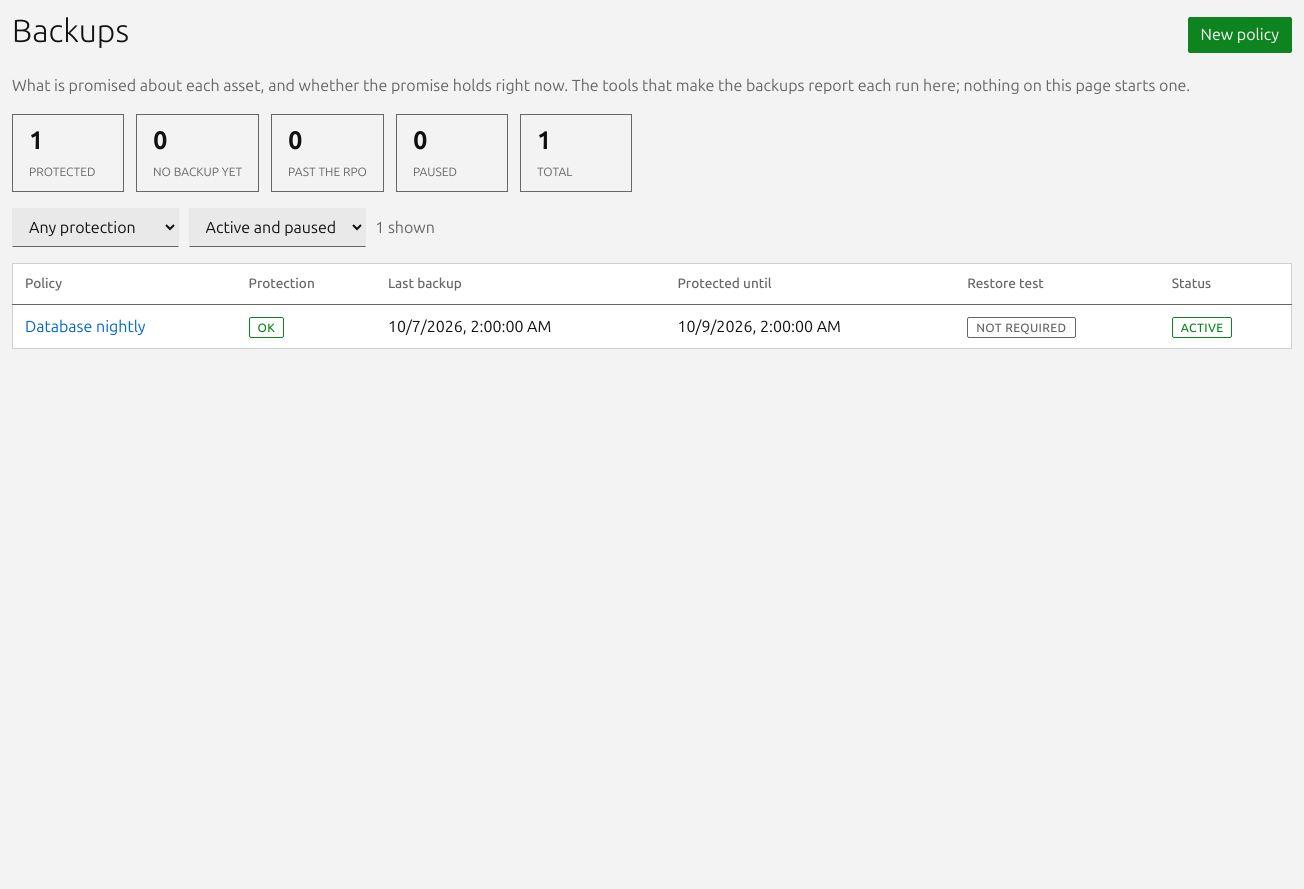
Test: a new policy › shows a failure that is not a problem document as plain text
The image size is (1304, 889).
Check: the button "Database nightly" is shown, box 25,315 -> 146,339
Click the button "New policy": (1240, 35) 1188,17 -> 1292,53
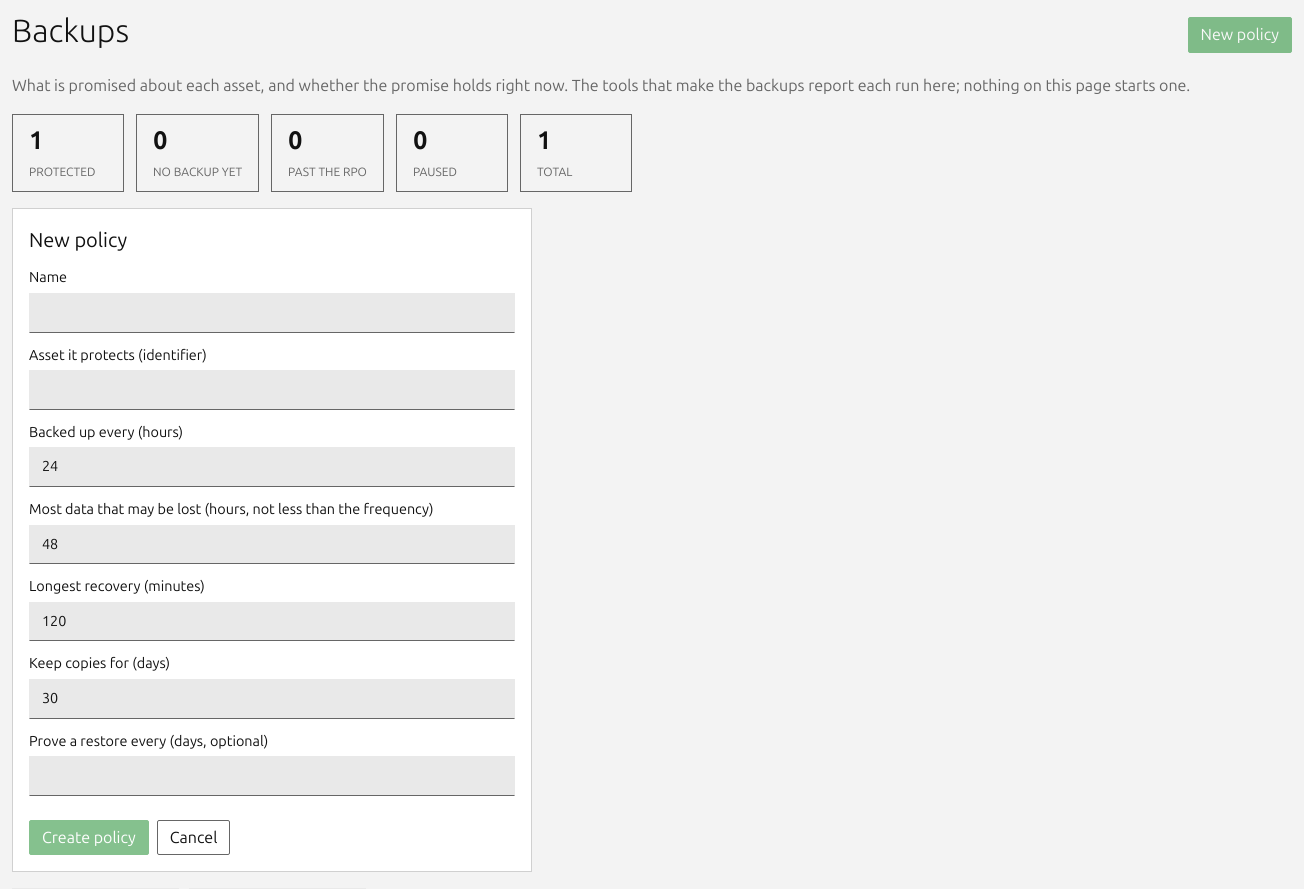
In the field labelled "Name": (272, 313) 29,293 -> 515,333, type "X"
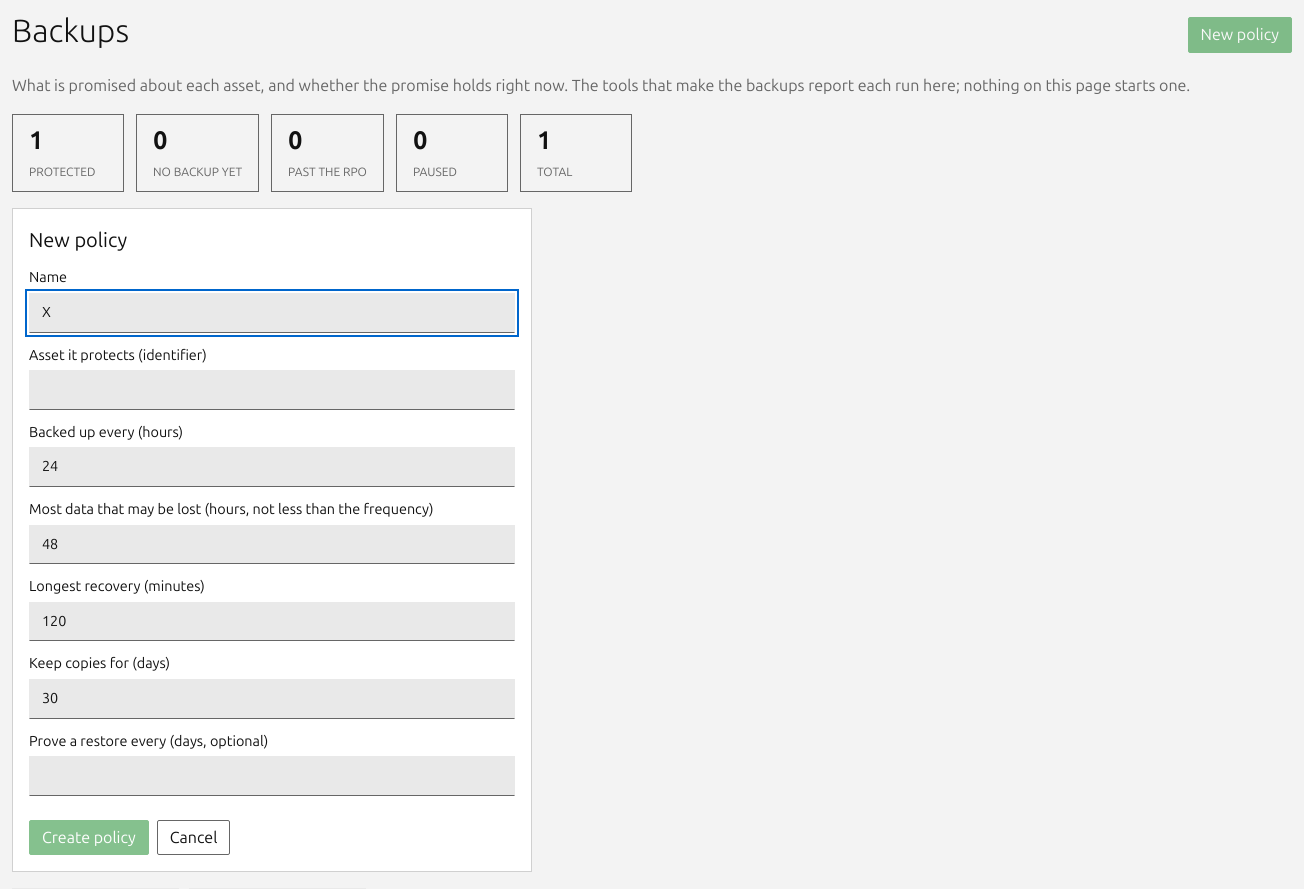
In the field labelled "Asset it protects (identifier)": (272, 390) 29,370 -> 515,410, type "a4"
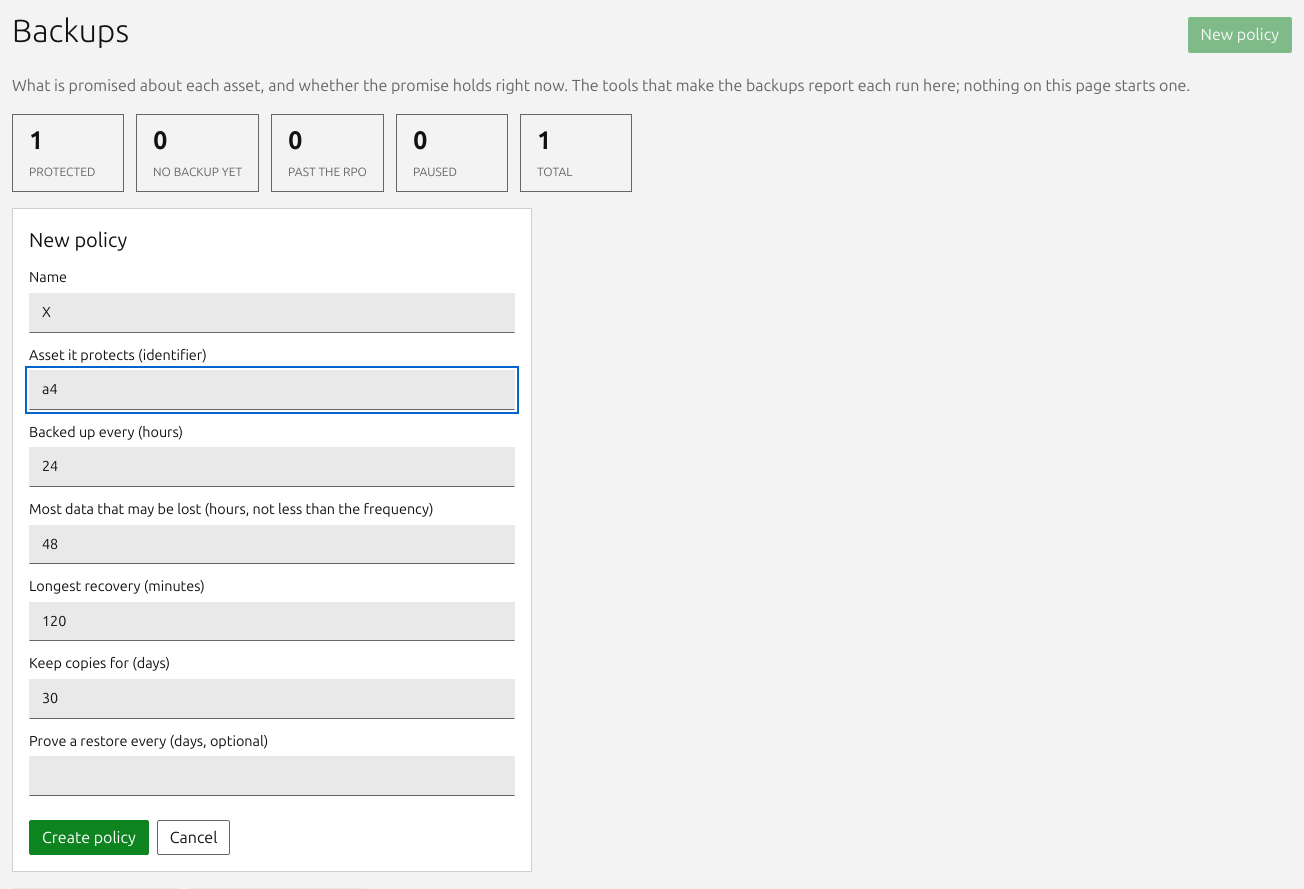
Click the button "Create policy": (89, 838) 29,820 -> 149,855
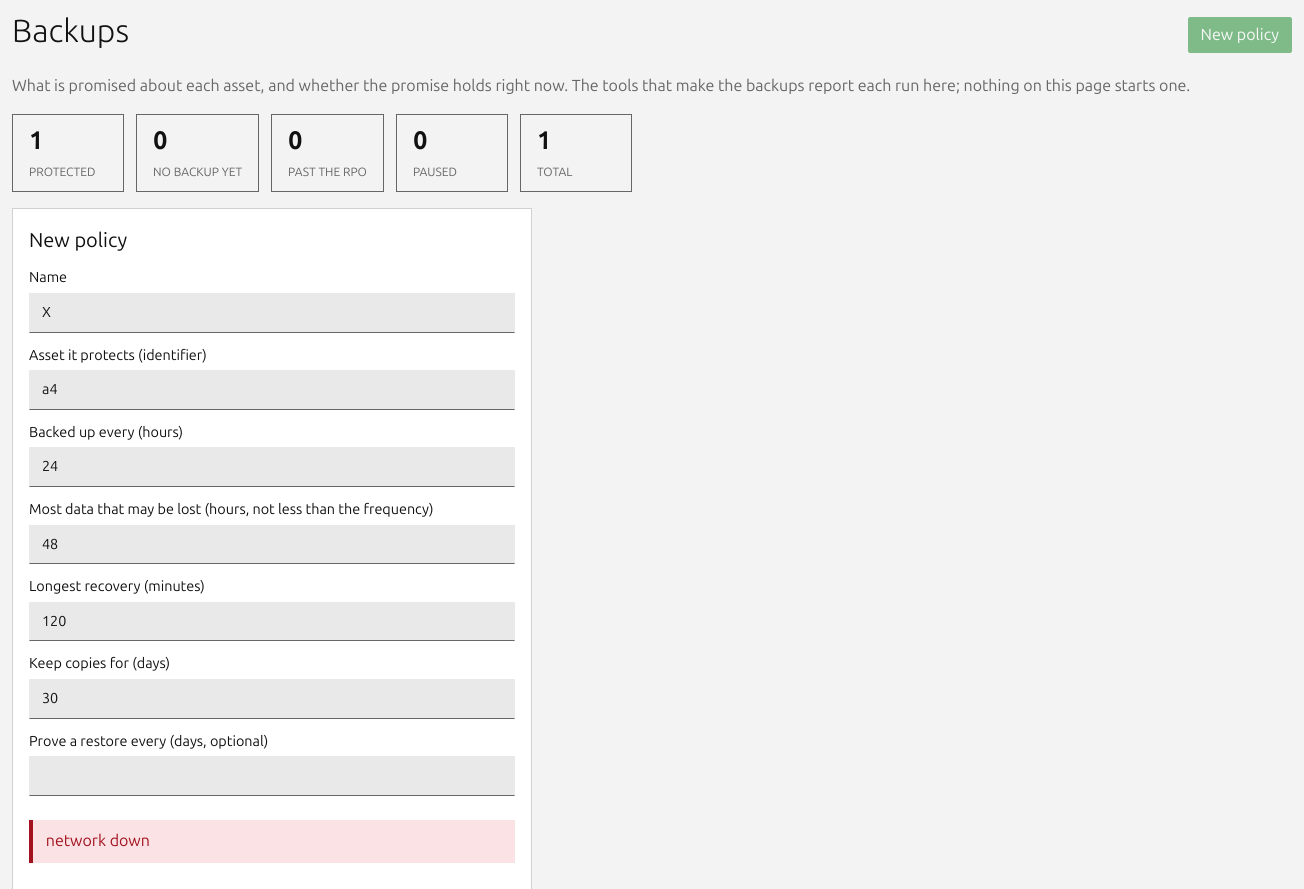
Check: the text "network down" is shown, box 29,820 -> 515,863
